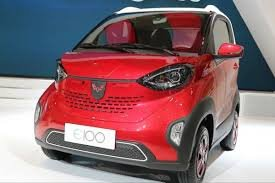mobil: (34, 7, 240, 175)
